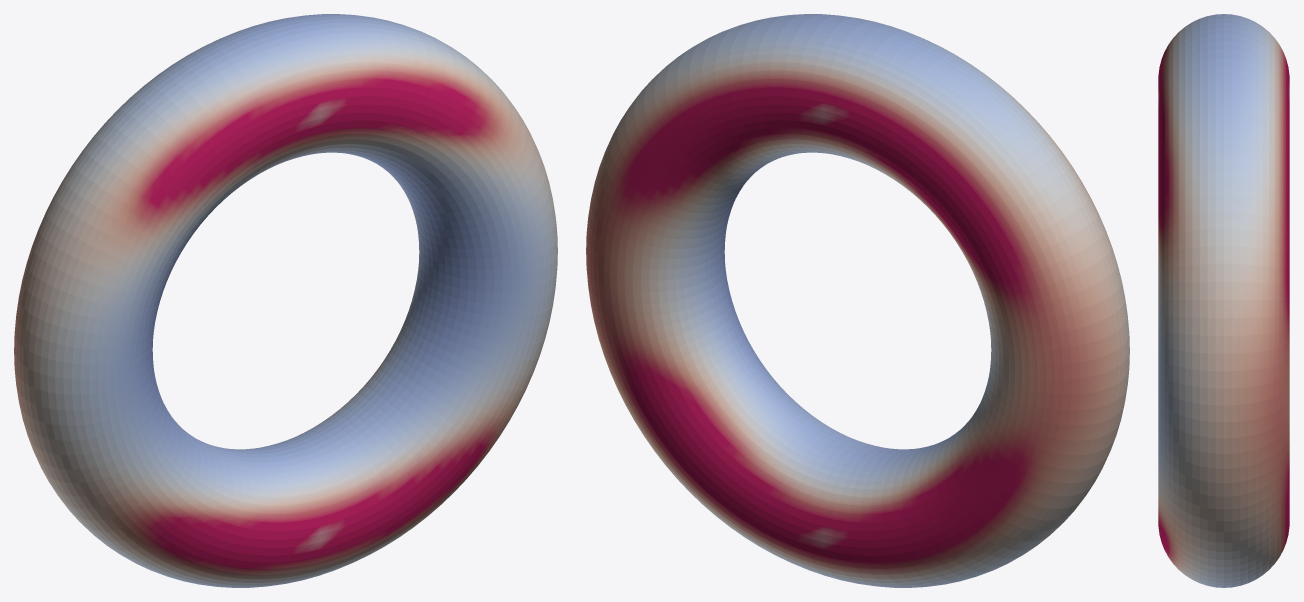
3 renders of one model, left to right at view 1: azimuth 30°, elevation 25°; view 2: azimuth 150°, elevation 25°; view 3: azimuth 270°, elevation 25°, orthographic. The views are drawn at different scales.
Parts seen in each view (by area): view 1: world; view 2: world; view 3: world.
Part boxes in pixels (x1=…): world: x1=14, y1=14, x2=557, y2=587; world: x1=586, y1=14, x2=1129, y2=587; world: x1=1158, y1=14, x2=1289, y2=587.
Size of the model in its own units: 25.07 by 25.07 by 5.72.
